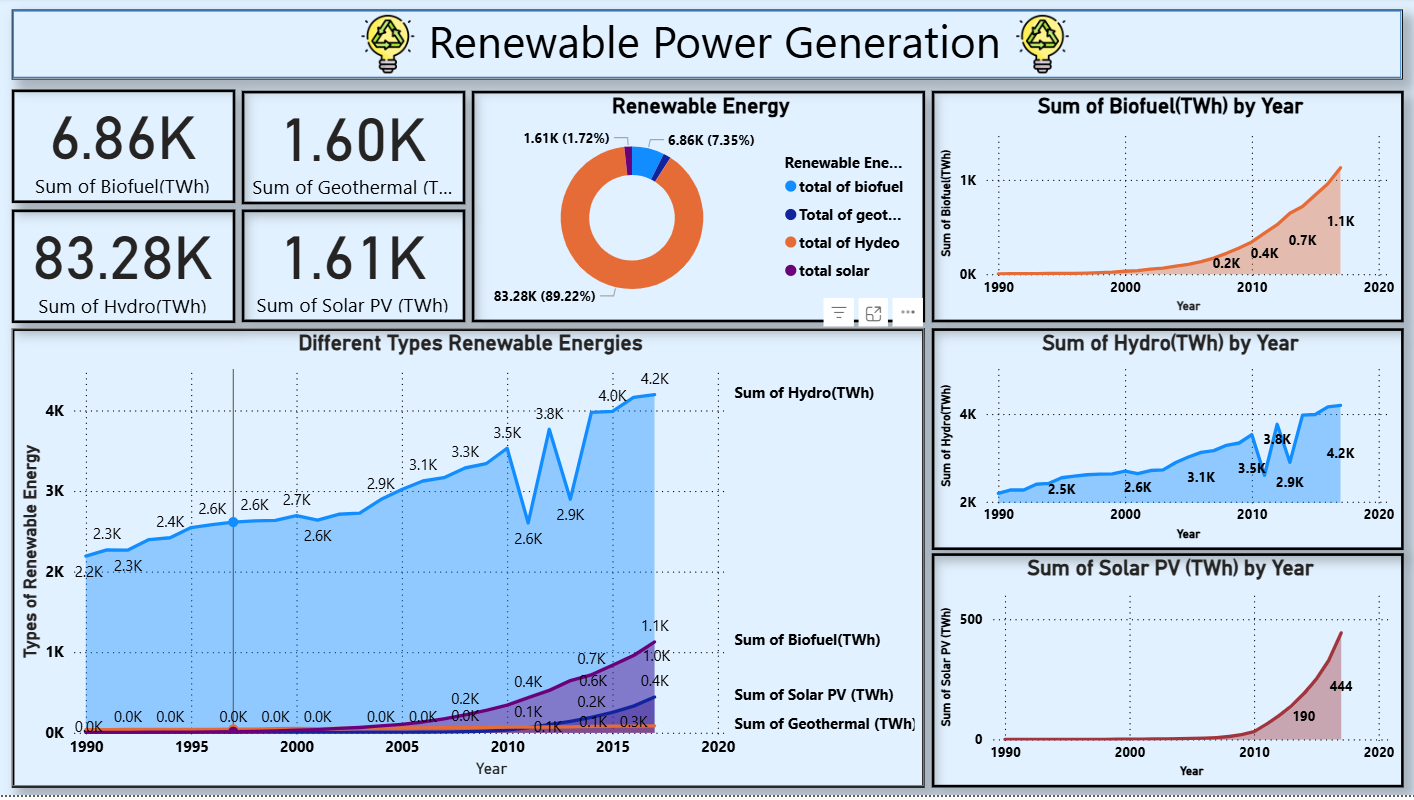

The page's visual inventory and layout, read from the dashboard file:
{"tool":"powerbi","page":{"name":"Renewable Dashboard ","canvas":[1280,720],"ordinal":1},"visuals":[{"type":"shape","box":[12.9,11.4,1254.3,62.9],"z":0},{"type":"card","fields":{"Values":["Sum(renewablePowerGeneration97-17.Biofuel(TWh))"]},"box":[12.5,83.8,201.2,102.5],"z":1000},{"type":"card","fields":{"Values":["Sum(renewablePowerGeneration97-17.Geothermal (TWh))"]},"box":[220,84,201.2,102.5],"z":2000},{"type":"card","fields":{"Values":["Sum(renewablePowerGeneration97-17.Hydro(TWh))"]},"box":[12.5,192,201.2,102.5],"z":3000},{"type":"card","fields":{"Values":["Sum(renewablePowerGeneration97-17.Solar PV (TWh))"]},"box":[220,191.4,201.4,101.4],"z":4000},{"type":"image","box":[310,11.4,82.9,62.9],"z":5000},{"type":"image","box":[900,11.4,84.3,62.9],"z":6000},{"type":"stackedAreaChart","fields":{"Category":["renewablePowerGeneration97-17.Year"],"Y":["Sum(renewablePowerGeneration97-17.Biofuel(TWh))"]},"box":[841.4,84.3,425.7,209],"z":7000},{"type":"donutChart","title":"Renewable Energy ","fields":{"Y":["renewablePowerGeneration97-17.total of biofuel","renewablePowerGeneration97-17.Total of geothermal","renewablePowerGeneration97-17.total of Hydeo","renewablePowerGeneration97-17.total solar"]},"box":[427.1,84.3,408.6,209],"z":8000},{"type":"lineChart","title":"Different Types Renewable Energies ","fields":{"Category":["renewablePowerGeneration97-17.Year"],"Y":["Sum(renewablePowerGeneration97-17.Hydro(TWh))","Sum(renewablePowerGeneration97-17.Solar PV (TWh))","Sum(renewablePowerGeneration97-17.Geothermal (TWh))","Sum(renewablePowerGeneration97-17.Biofuel(TWh))"]},"box":[12.9,298.6,822.9,414.3],"z":9000},{"type":"stackedAreaChart","fields":{"Y":["Sum(renewablePowerGeneration97-17.Hydro(TWh))"],"Category":["renewablePowerGeneration97-17.Year"]},"box":[841.4,298.6,425.7,200],"z":10000},{"type":"stackedAreaChart","fields":{"Category":["renewablePowerGeneration97-17.Year"],"Y":["Sum(renewablePowerGeneration97-17.Solar PV (TWh))"]},"box":[841.4,501.4,425.7,211.4],"z":11000}]}

Visuals, with their boxes in screenshot pixels (x1, y1, x2, y2), scaled from the page's 1280x720 canvas onto the 1414x800 screenshot:
shape: {"x1": 14, "y1": 13, "x2": 1400, "y2": 83}
card - Sum(renewablePowerGeneration97-17.Biofuel(TWh)): {"x1": 14, "y1": 93, "x2": 236, "y2": 207}
card - Sum(renewablePowerGeneration97-17.Geothermal (TWh)): {"x1": 243, "y1": 93, "x2": 465, "y2": 207}
card - Sum(renewablePowerGeneration97-17.Hydro(TWh)): {"x1": 14, "y1": 213, "x2": 236, "y2": 327}
card - Sum(renewablePowerGeneration97-17.Solar PV (TWh)): {"x1": 243, "y1": 213, "x2": 466, "y2": 325}
image: {"x1": 342, "y1": 13, "x2": 434, "y2": 83}
image: {"x1": 994, "y1": 13, "x2": 1087, "y2": 83}
stackedAreaChart - renewablePowerGeneration97-17.Year x Sum(renewablePowerGeneration97-17.Biofuel(TWh)): {"x1": 929, "y1": 94, "x2": 1400, "y2": 326}
"Renewable Energy " donutChart: {"x1": 472, "y1": 94, "x2": 923, "y2": 326}
"Different Types Renewable Energies " lineChart: {"x1": 14, "y1": 332, "x2": 923, "y2": 792}
stackedAreaChart - Sum(renewablePowerGeneration97-17.Hydro(TWh)) x renewablePowerGeneration97-17.Year: {"x1": 929, "y1": 332, "x2": 1400, "y2": 554}
stackedAreaChart - renewablePowerGeneration97-17.Year x Sum(renewablePowerGeneration97-17.Solar PV (TWh)): {"x1": 929, "y1": 557, "x2": 1400, "y2": 792}
